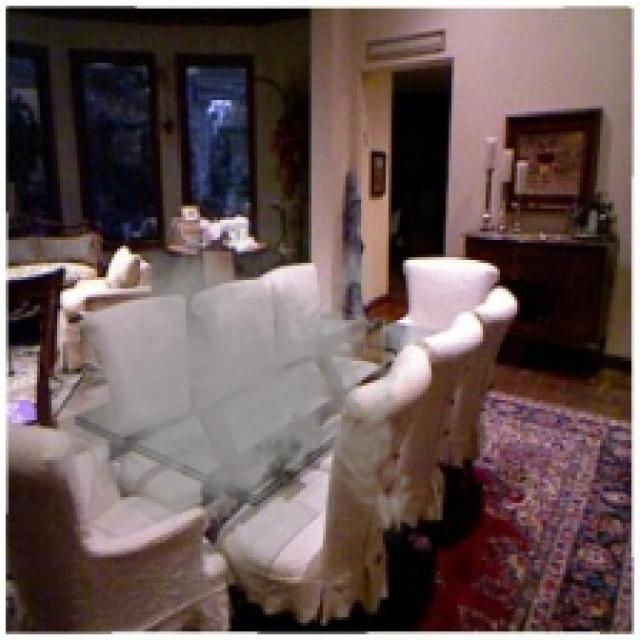smoke: (40, 192, 423, 588)
